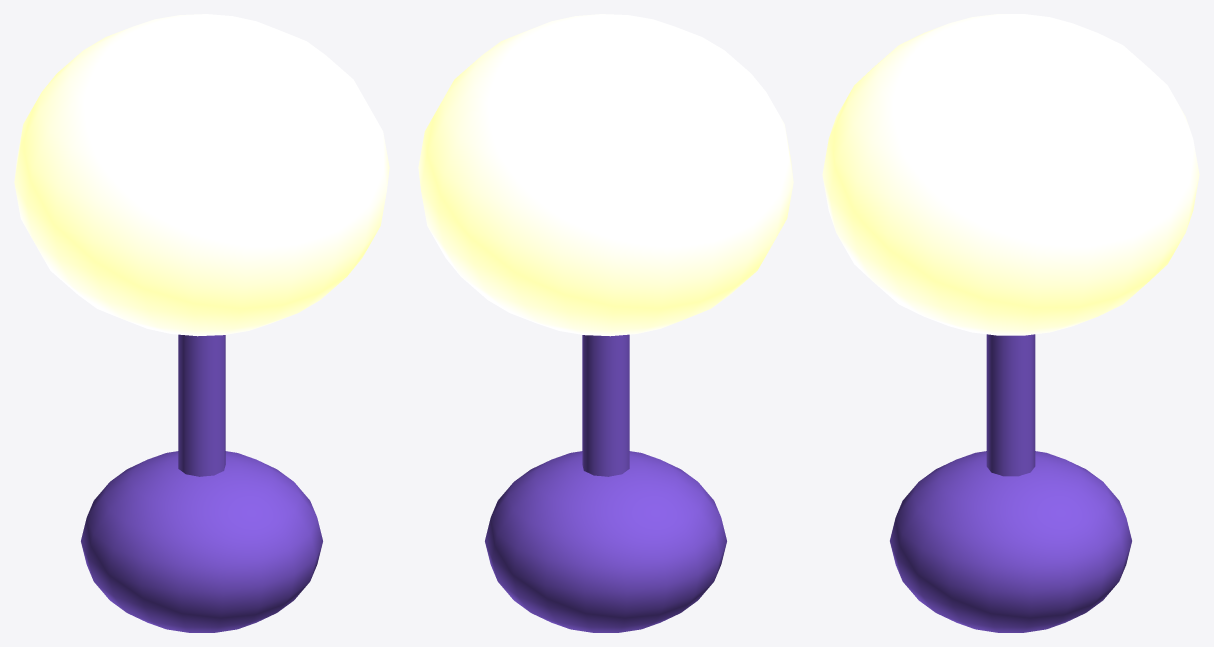
Rendered from table_lamp.glb.
3 renders of one model, left to right at view 1: azimuth 30°, elevation 25°; view 2: azimuth 150°, elevation 25°; view 3: azimuth 270°, elevation 25°, orthographic.
Visible parts, largest first — view 1: TableLamp; view 2: TableLamp; view 3: TableLamp.
Boxes of the visible parts, box(x1,y1,x2,y2) form: TableLamp: box(14, 14, 389, 632); TableLamp: box(418, 14, 793, 632); TableLamp: box(822, 14, 1199, 632).
Bounding box in the file's own units: 0.2772 × 0.4778 × 0.28.
